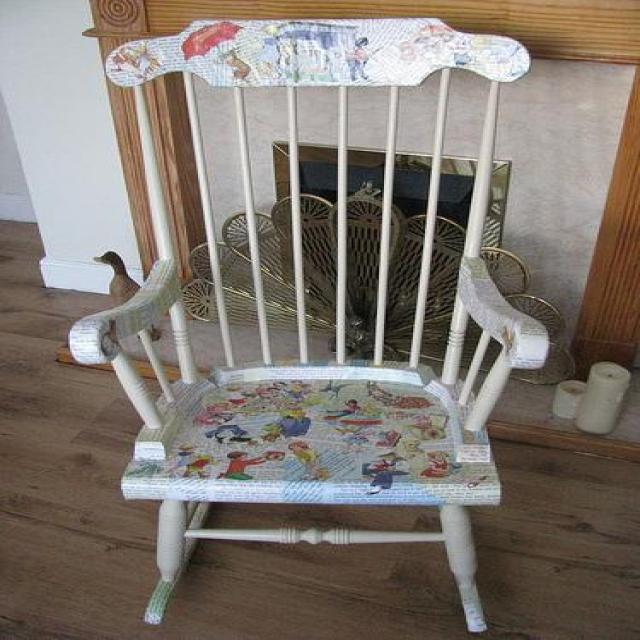chair: (68, 17, 553, 636)
